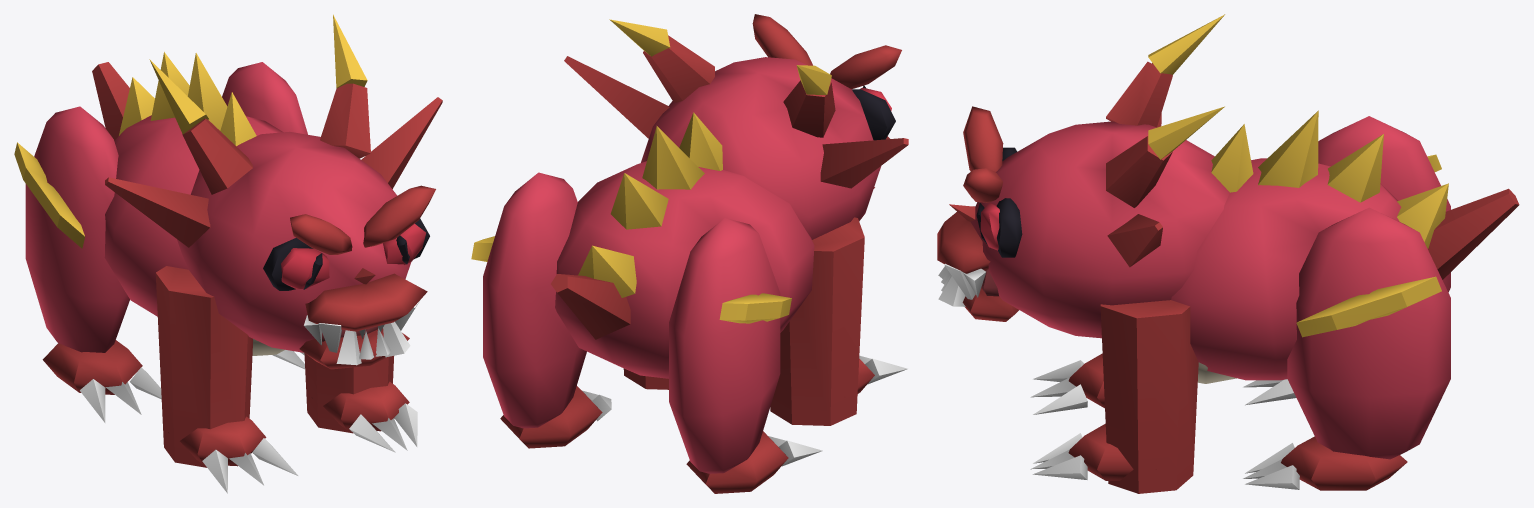
The model's file is slime_fast.glb.
3 renders of one model, left to right at view 1: azimuth 30°, elevation 25°; view 2: azimuth 150°, elevation 25°; view 3: azimuth 270°, elevation 25°, orthographic. The views are drawn at different scales.
Visible parts, largest first — view 1: Body; view 2: Body; view 3: Body.
Boxes of the visible parts, x1,y1,x2,y2 form: Body: [14, 14, 442, 493]; Body: [471, 14, 908, 493]; Body: [937, 14, 1519, 493].
Bounding box in the file's own units: 0.4197 × 0.4382 × 0.6093.
1 material, 1 textured.
